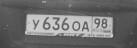license-plateSW: (26, 13, 114, 35)
